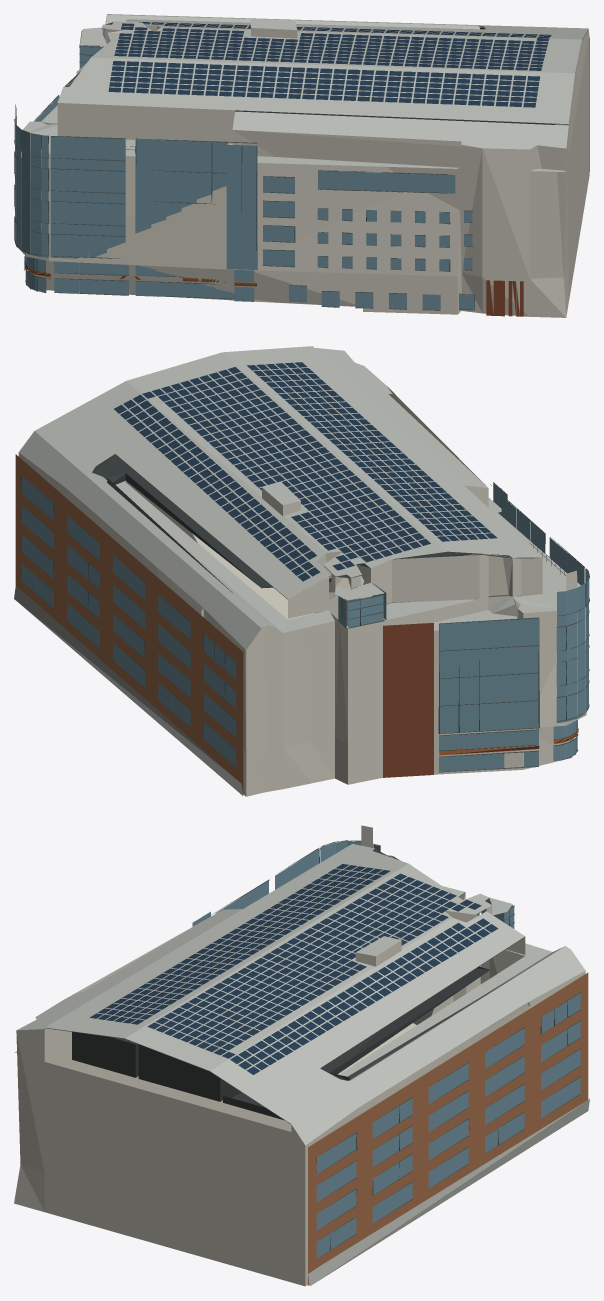
Rendered from academie-theater-dans.lod1.glb.
The picture shows the model from 3 angles, top to bottom: view 1: azimuth 30°, elevation 25°; view 2: azimuth 150°, elevation 25°; view 3: azimuth 270°, elevation 25°; orthographic projection. The views are drawn at different scales.
Parts seen in each view (by area): view 1: academie-theater-dans; view 2: academie-theater-dans; view 3: academie-theater-dans.
Boxes of the visible parts, x1,y1,x2,y2 form: academie-theater-dans: [14, 14, 589, 317]; academie-theater-dans: [14, 346, 589, 796]; academie-theater-dans: [14, 825, 589, 1286].
Size of the model in its own units: 84.76 by 28.29 by 74.27.
